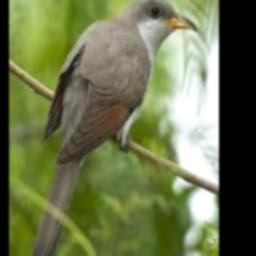Cuckoo: (32, 0, 196, 256)
